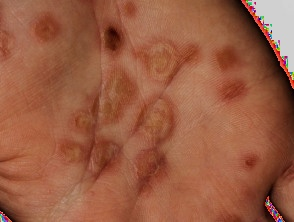SJS-TEN: (42, 6, 226, 216), (207, 40, 256, 103), (22, 6, 67, 52), (0, 25, 20, 76)
